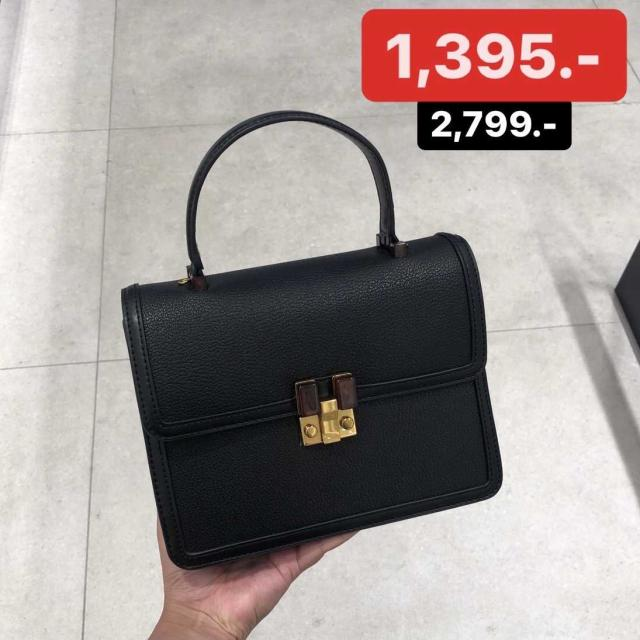Handbag: (119, 111, 501, 576)
